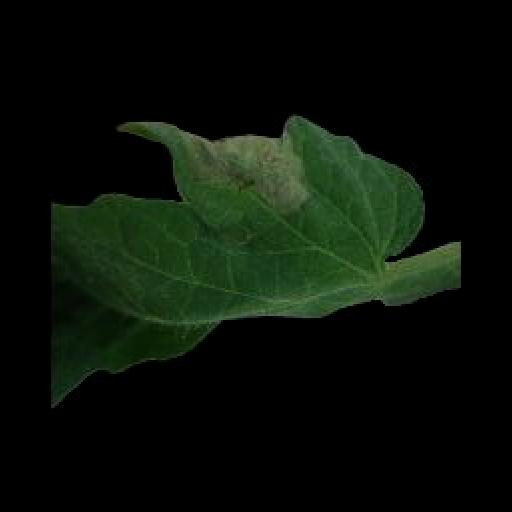disease_tomato: (48, 114, 434, 408)
